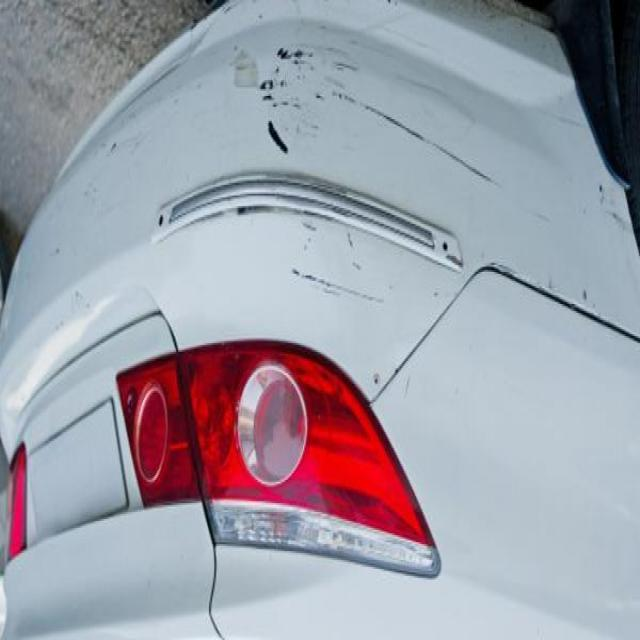scratch: (356, 84, 502, 193), (286, 260, 390, 318)
